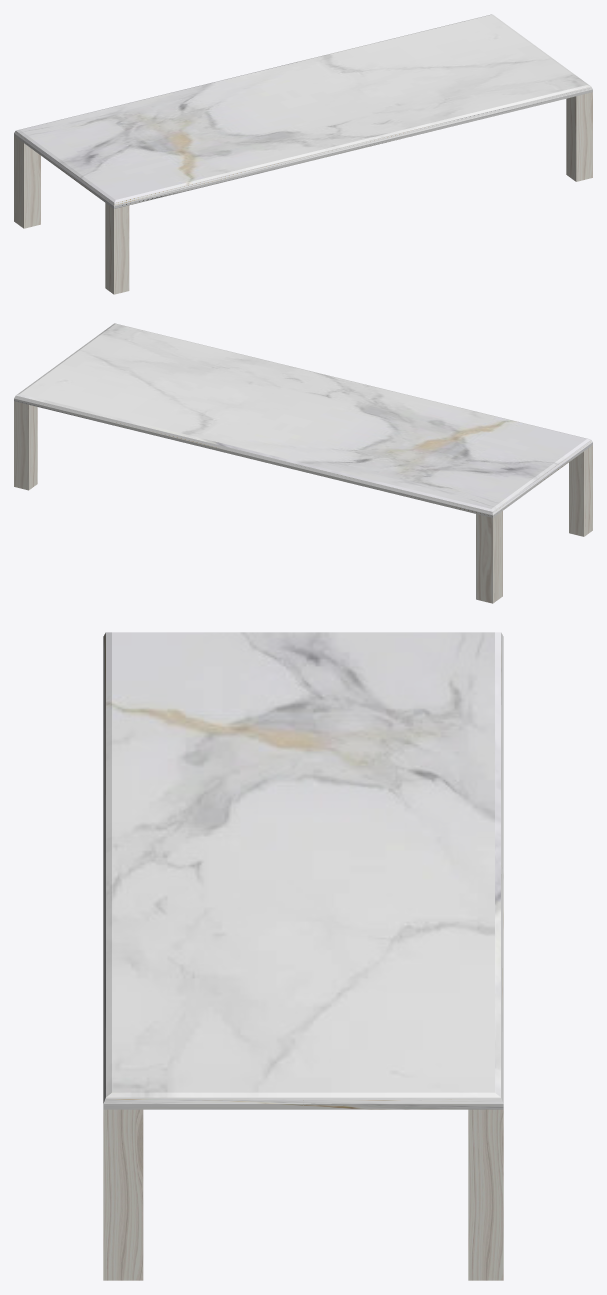
Rendered from DiningTable.fbx.
3 views of the same model, one above another, from view 1: azimuth 30°, elevation 25°; view 2: azimuth 150°, elevation 25°; view 3: azimuth 270°, elevation 25° (orthographic). The views are drawn at different scales.
Visible parts, largest first — view 1: Cube; view 2: Cube; view 3: Cube.
Part boxes in pixels (<box>): Cube: <box>14,14,592,294</box>; Cube: <box>14,323,592,603</box>; Cube: <box>103,632,503,1280</box>.
Bounding box in the file's own units: 299 × 55.11 × 108.
Materials: 2 (2 with a texture image).
